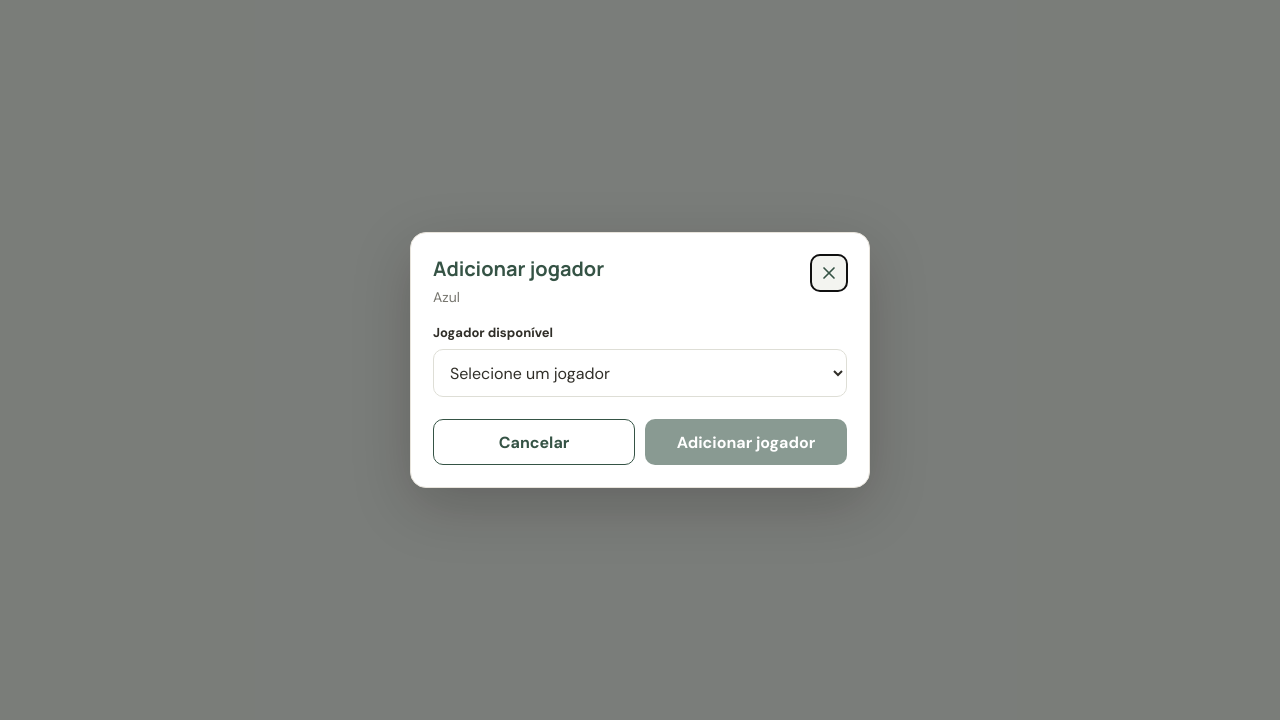
Test: modal e integração da inclusão manual › mostra erro da API e libera o modal após falha de conexão
Select "Caio — Vaga de reserva" in the dropdown labelled "Jogador disponível" at (640, 373), box [433, 349, 847, 397]
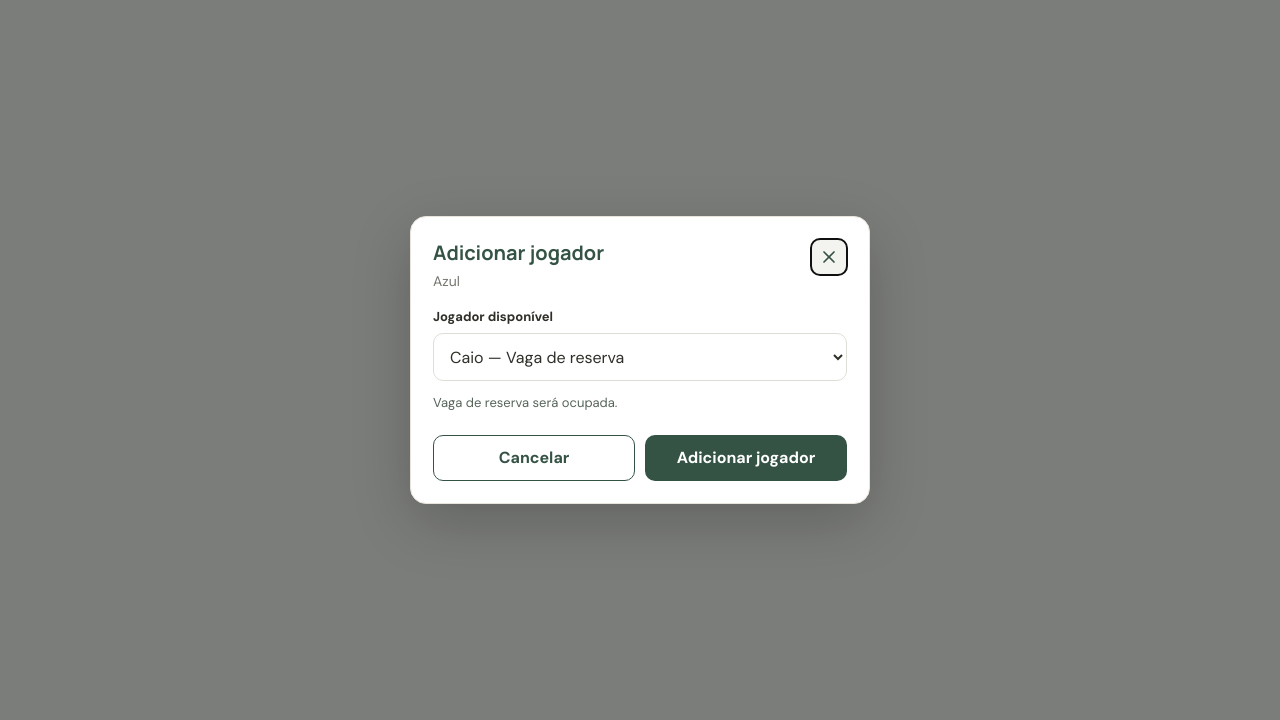
Click the button "Adicionar jogador" at (746, 458), box [645, 435, 847, 481]
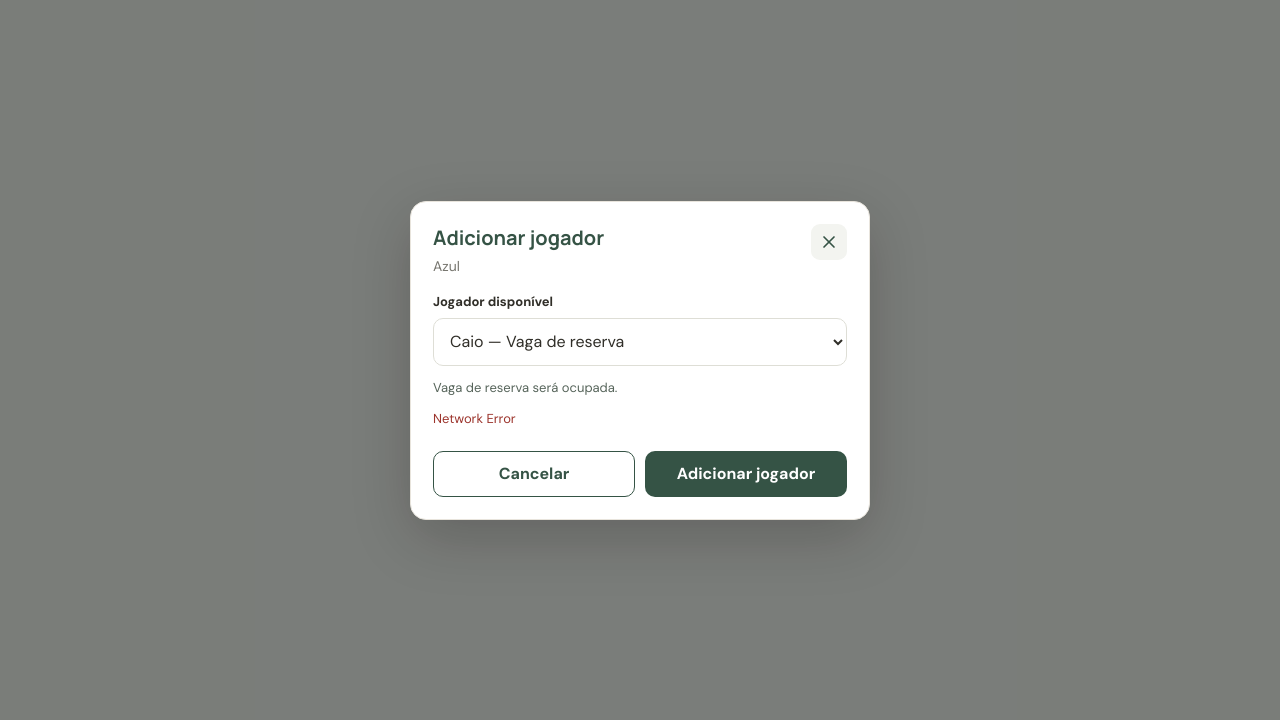
Now the button "Adicionar jogador" is enabled, box [645, 450, 847, 496]
Now the message "Network Error" is shown, box [433, 410, 516, 427]
